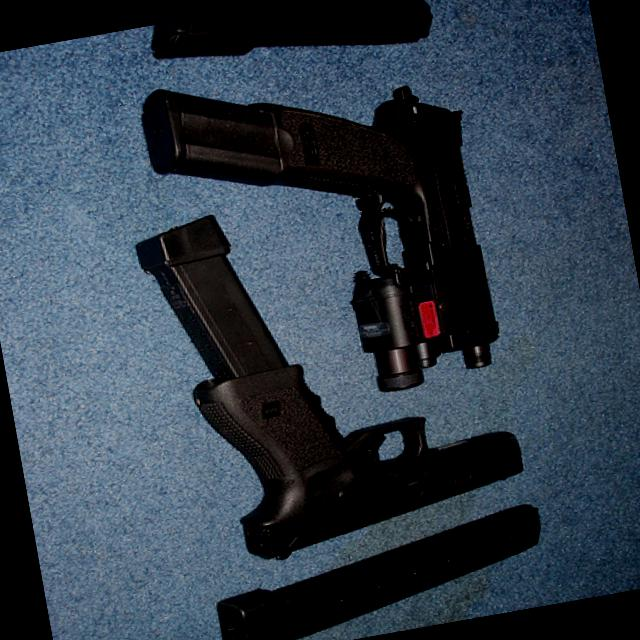handgun: (262, 65, 510, 407), (188, 326, 536, 568)
